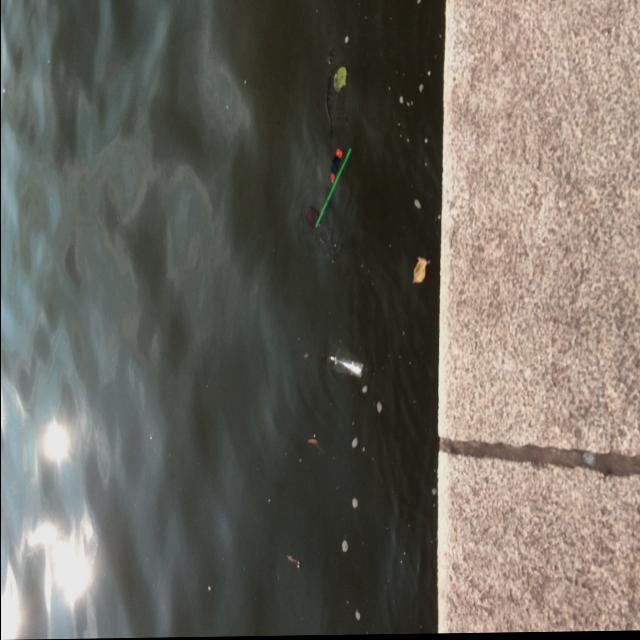Plastic: (312, 145, 354, 232), (322, 343, 368, 381), (327, 148, 342, 188)
